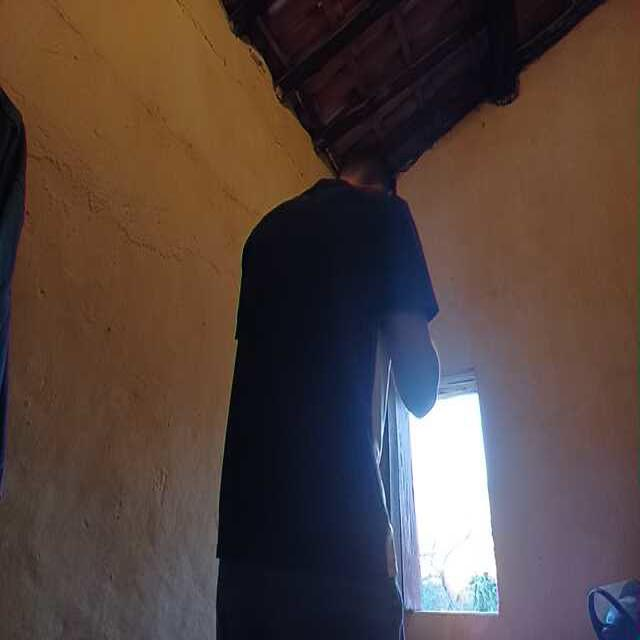capacete: (584, 575, 640, 640)
pessoa: (228, 143, 429, 640)
